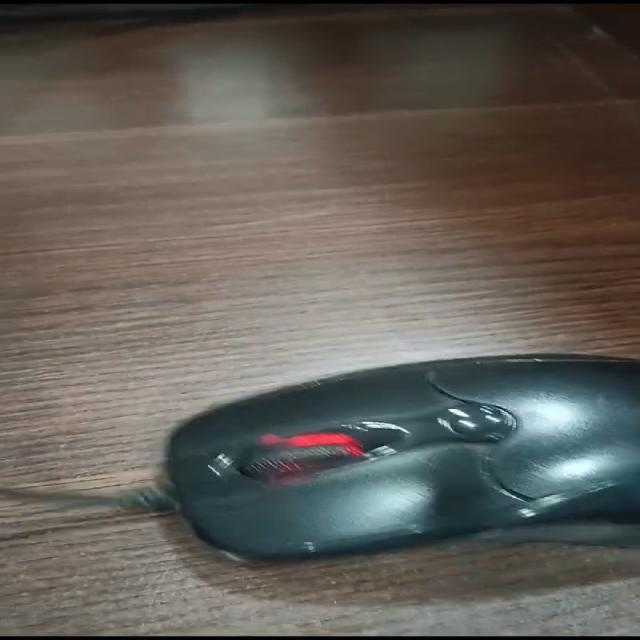Mouse: (96, 339, 640, 570)
